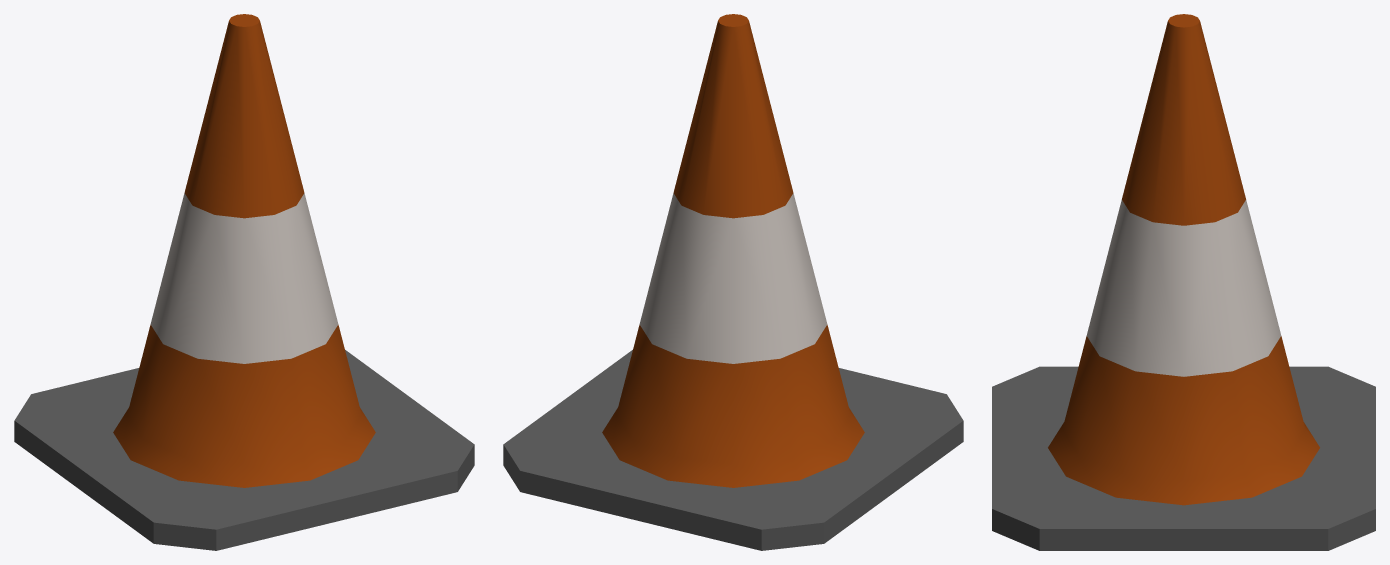
3 renders of one model, left to right at view 1: azimuth 30°, elevation 25°; view 2: azimuth 150°, elevation 25°; view 3: azimuth 270°, elevation 25°, orthographic. The views are drawn at different scales.
Visible parts, largest first — view 1: TrafficCone_1; view 2: TrafficCone_1; view 3: TrafficCone_1.
Part boxes in pixels (left/top/right/bottom): TrafficCone_1: left=14, top=14, right=474, bottom=550; TrafficCone_1: left=503, top=14, right=963, bottom=550; TrafficCone_1: left=992, top=14, right=1375, bottom=550.
Bounding box in the file's own units: 0.5216 × 0.6733 × 0.5216.
1 material, 1 textured.
